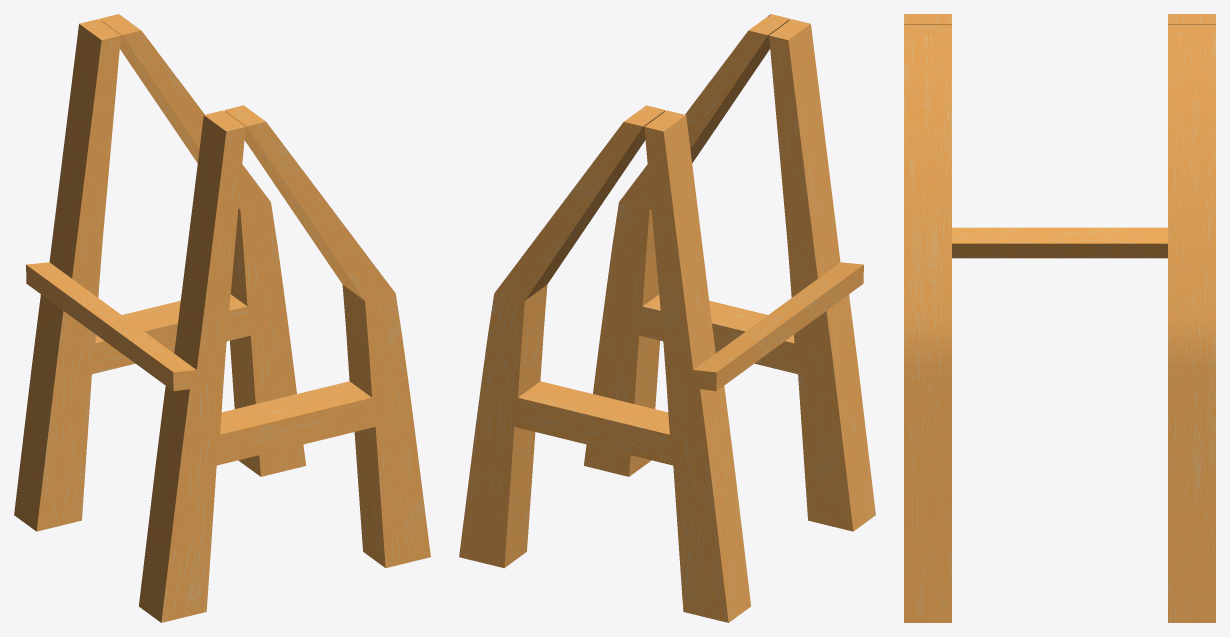
Rendered from Archery_Stand.fbx.
3 views of the same model, side by side, from view 1: azimuth 30°, elevation 25°; view 2: azimuth 150°, elevation 25°; view 3: azimuth 270°, elevation 25° (orthographic). The views are drawn at different scales.
Parts seen in each view (by area): view 1: Archery_Stand; view 2: Archery_Stand; view 3: Archery_Stand.
Boxes of the visible parts, left/top/right/bottom form: Archery_Stand: left=14, top=14, right=430, bottom=622; Archery_Stand: left=459, top=14, right=875, bottom=622; Archery_Stand: left=904, top=14, right=1215, bottom=622.
Size of the model in its own units: 121 by 204 by 115.
